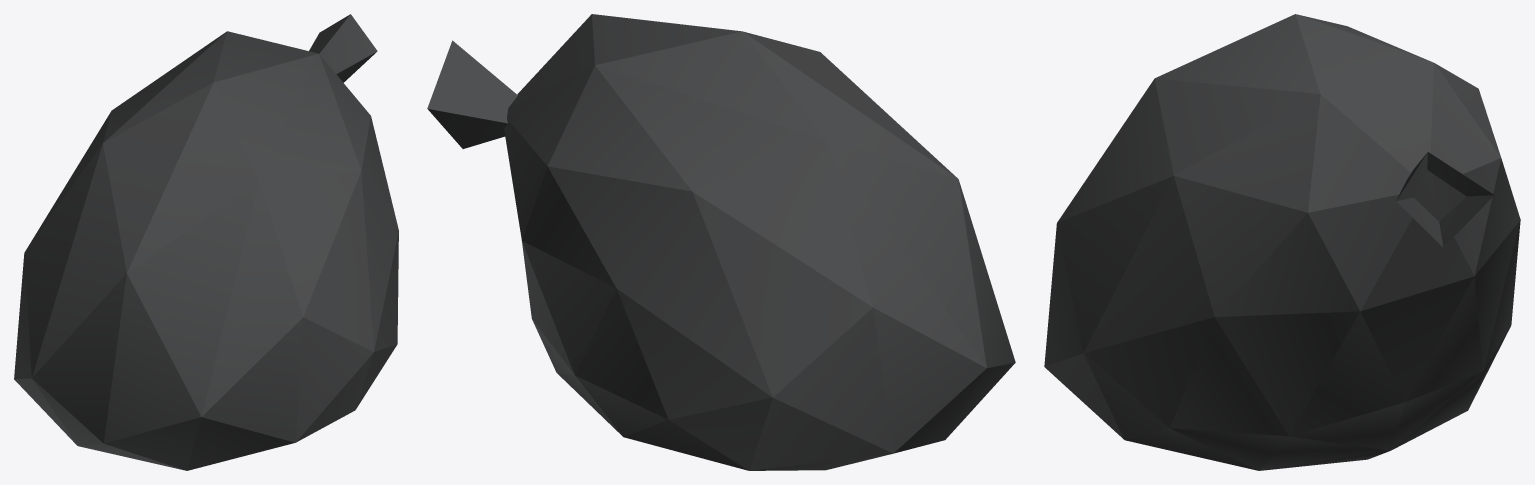
File: SM_trash_sack_03.fbx
3 renders of one model, left to right at view 1: azimuth 30°, elevation 25°; view 2: azimuth 150°, elevation 25°; view 3: azimuth 270°, elevation 25°, orthographic. The views are drawn at different scales.
Visible parts, largest first — view 1: GeoSphere003; view 2: GeoSphere003; view 3: GeoSphere003.
Part boxes in pixels (box(x1,y1,x2,y2)): GeoSphere003: box(14, 14, 398, 470); GeoSphere003: box(427, 14, 1015, 470); GeoSphere003: box(1044, 14, 1520, 470).
Size of the model in its own units: 26.42 by 20.73 by 21.54.
